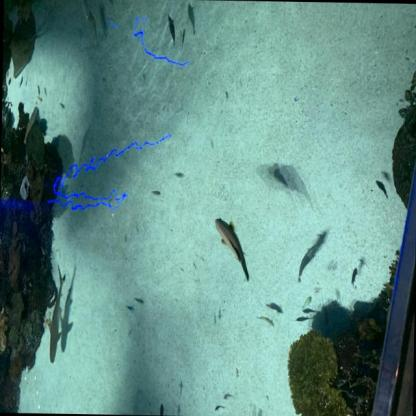fish: (212, 215, 252, 284), (295, 244, 319, 285), (166, 13, 178, 48), (88, 10, 99, 48), (97, 3, 108, 40), (374, 178, 390, 202), (255, 314, 277, 329), (78, 0, 92, 22), (188, 4, 196, 34), (273, 168, 287, 184), (350, 266, 360, 288), (300, 294, 312, 312), (123, 302, 136, 314), (156, 400, 166, 415), (294, 316, 314, 323), (150, 189, 163, 198), (18, 74, 24, 90), (34, 94, 43, 103), (223, 90, 229, 103), (58, 102, 66, 110), (8, 76, 12, 86)
shark: (46, 264, 66, 364)
